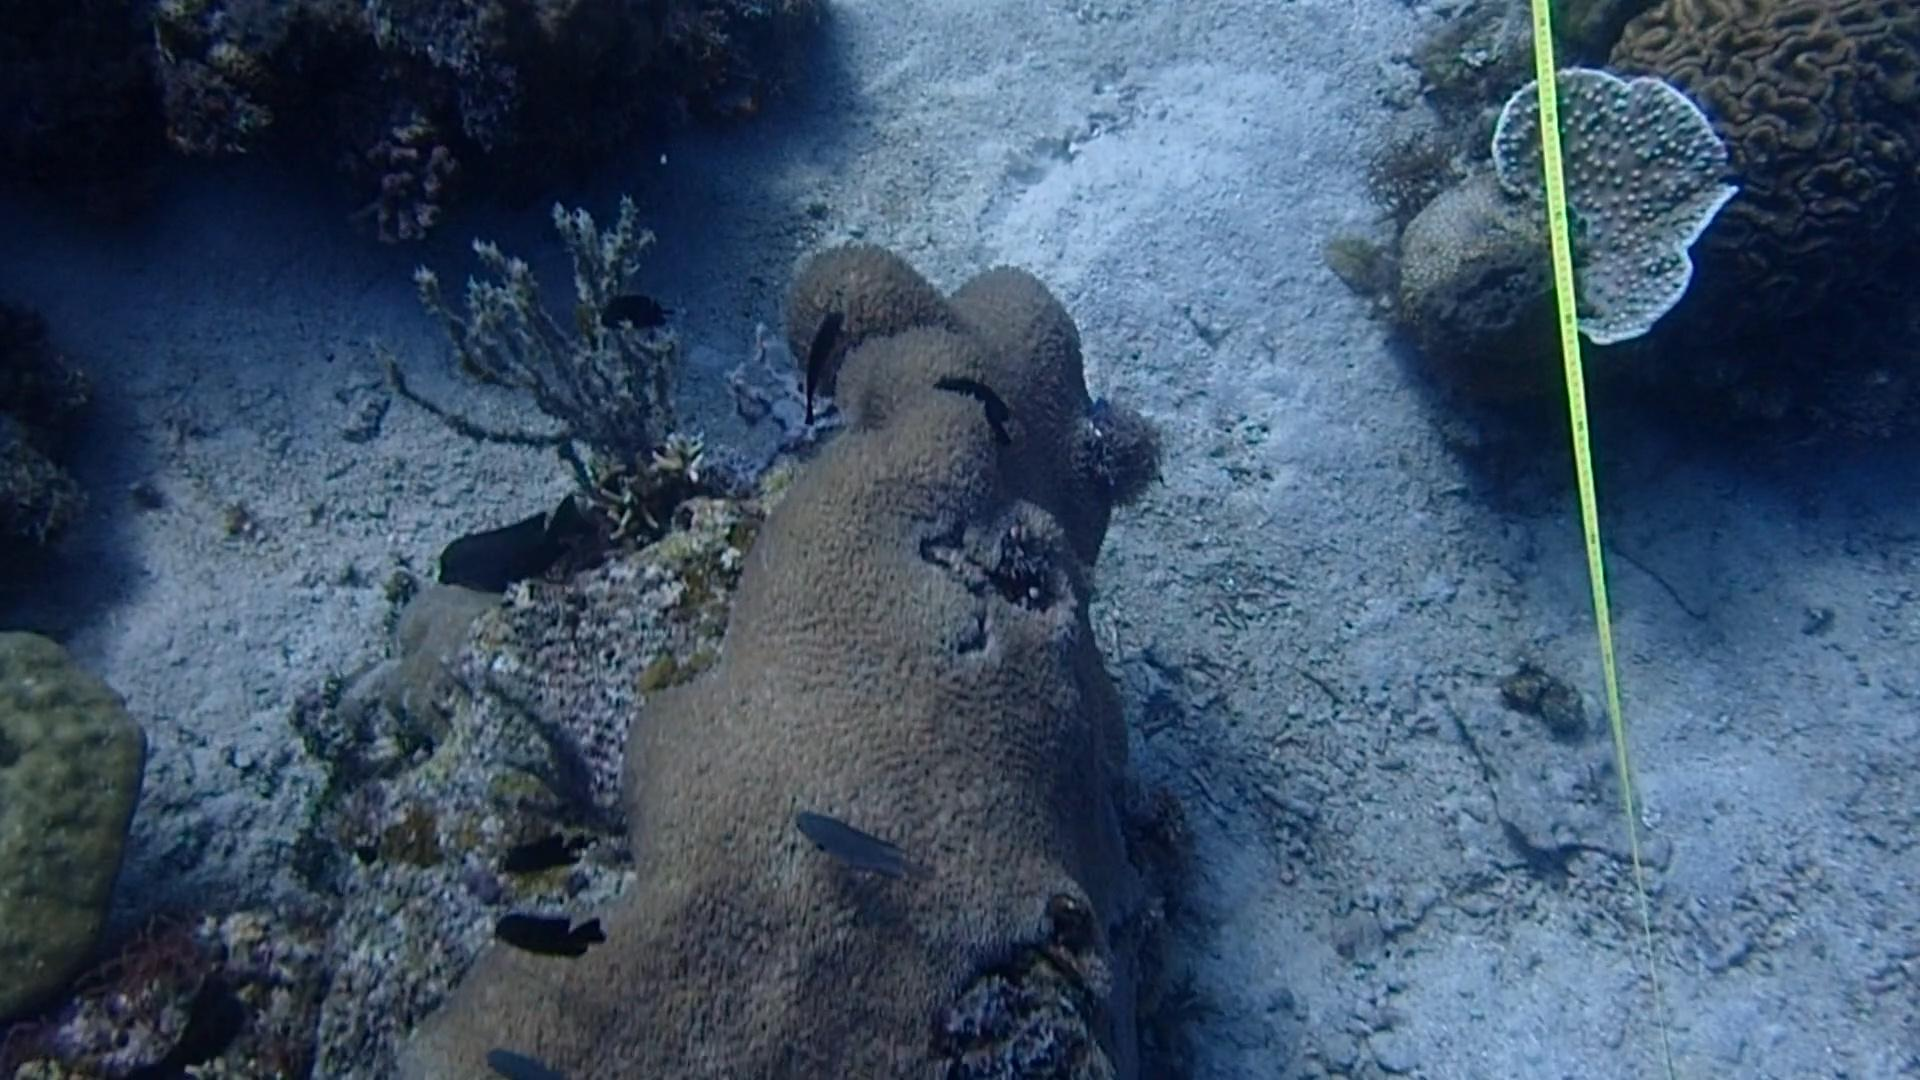Big Dark Blue Fish: (415, 487, 597, 597)
Dark Fish: (488, 898, 615, 967), (923, 368, 1015, 440), (599, 272, 680, 340), (495, 827, 595, 882), (789, 303, 852, 390)
Light Fish: (789, 804, 916, 897)
